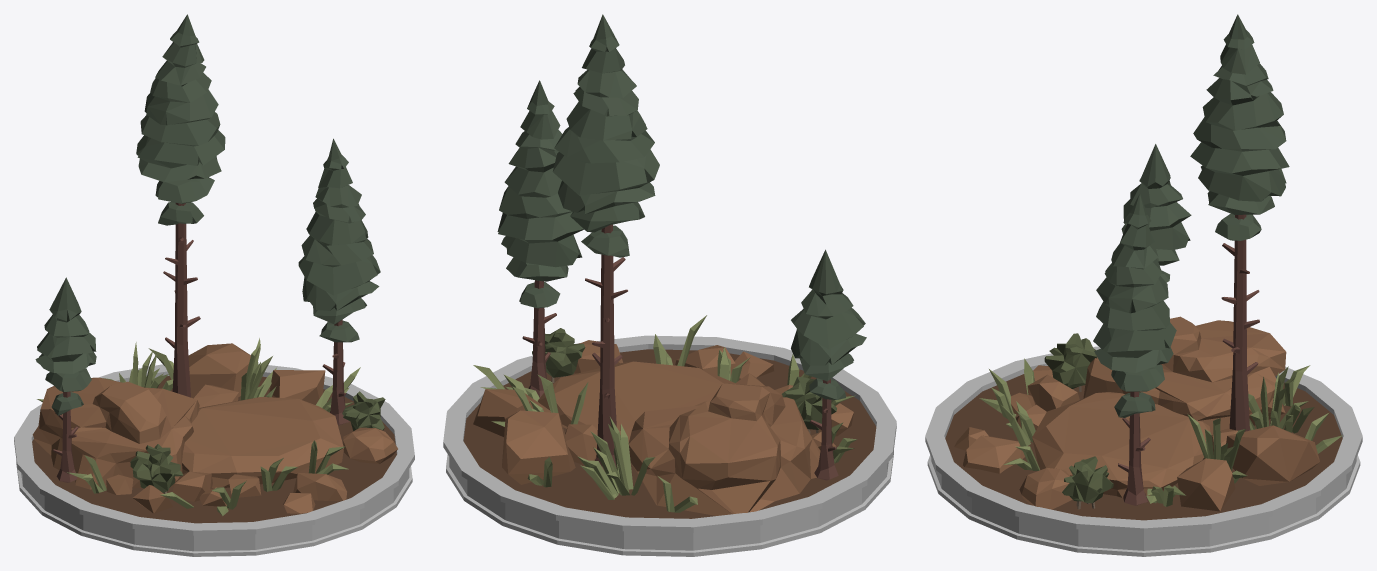
The model's file is Prop_Diorama_01.glb.
3 renders of one model, left to right at view 1: azimuth 30°, elevation 25°; view 2: azimuth 150°, elevation 25°; view 3: azimuth 270°, elevation 25°, orthographic. The views are drawn at different scales.
Visible parts, largest first — view 1: SM_Prop_Diorama_01; view 2: SM_Prop_Diorama_01; view 3: SM_Prop_Diorama_01.
Boxes of the visible parts, x1,y1,x2,y2 form: SM_Prop_Diorama_01: [14, 14, 414, 556]; SM_Prop_Diorama_01: [443, 14, 896, 556]; SM_Prop_Diorama_01: [925, 14, 1362, 556].
Size of the model in its own units: 4.99 by 5.78 by 4.99.
2 materials, 1 textured.
